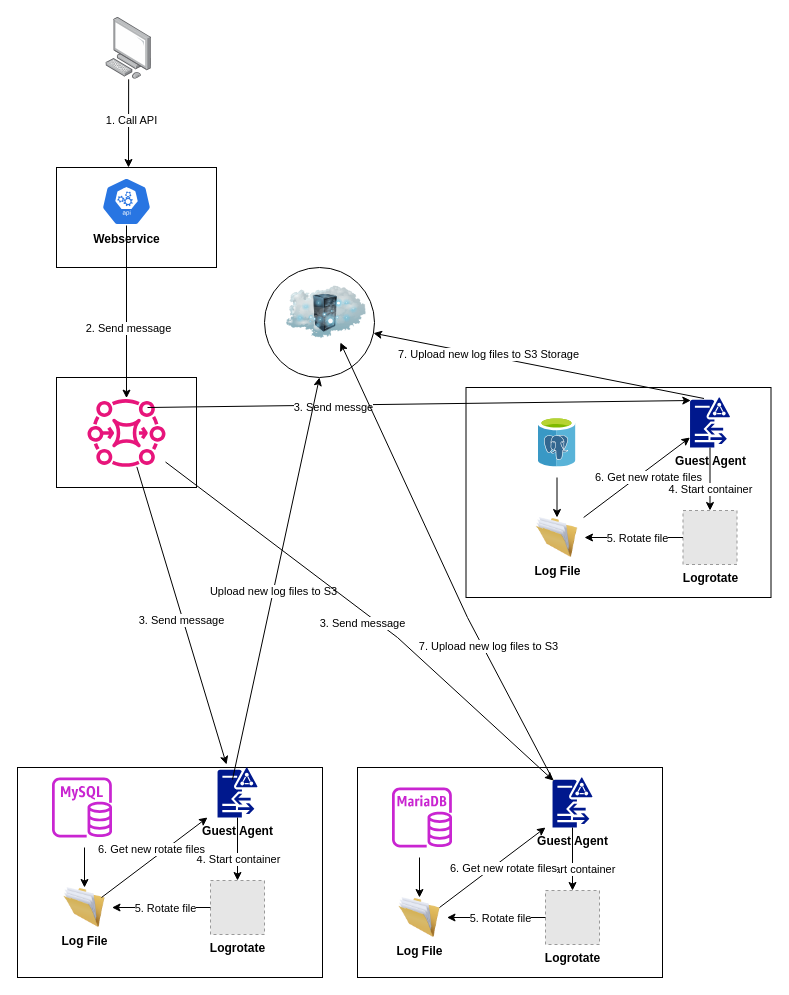
The diagram is 789 pixels wide and 995 high, and some of its shapes have lost their labels. Grey dashed boxes stand in for pictures. The shapes that lost their labels are listed below. From the top down, each one's centre as x and y in pixels, then its label:
At (x=128, y=48): "User Front-end".
At (x=326, y=312): "S3 Storage".
At (x=126, y=432): "RabbitMQ".
At (x=557, y=441): "PostgreSQL".
